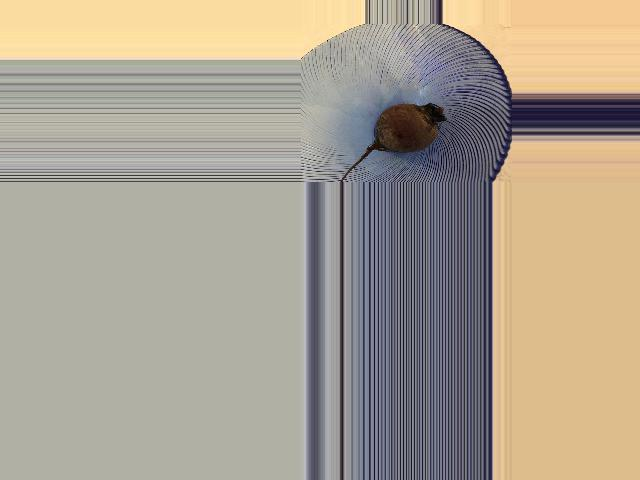beet: (341, 104, 446, 183)
